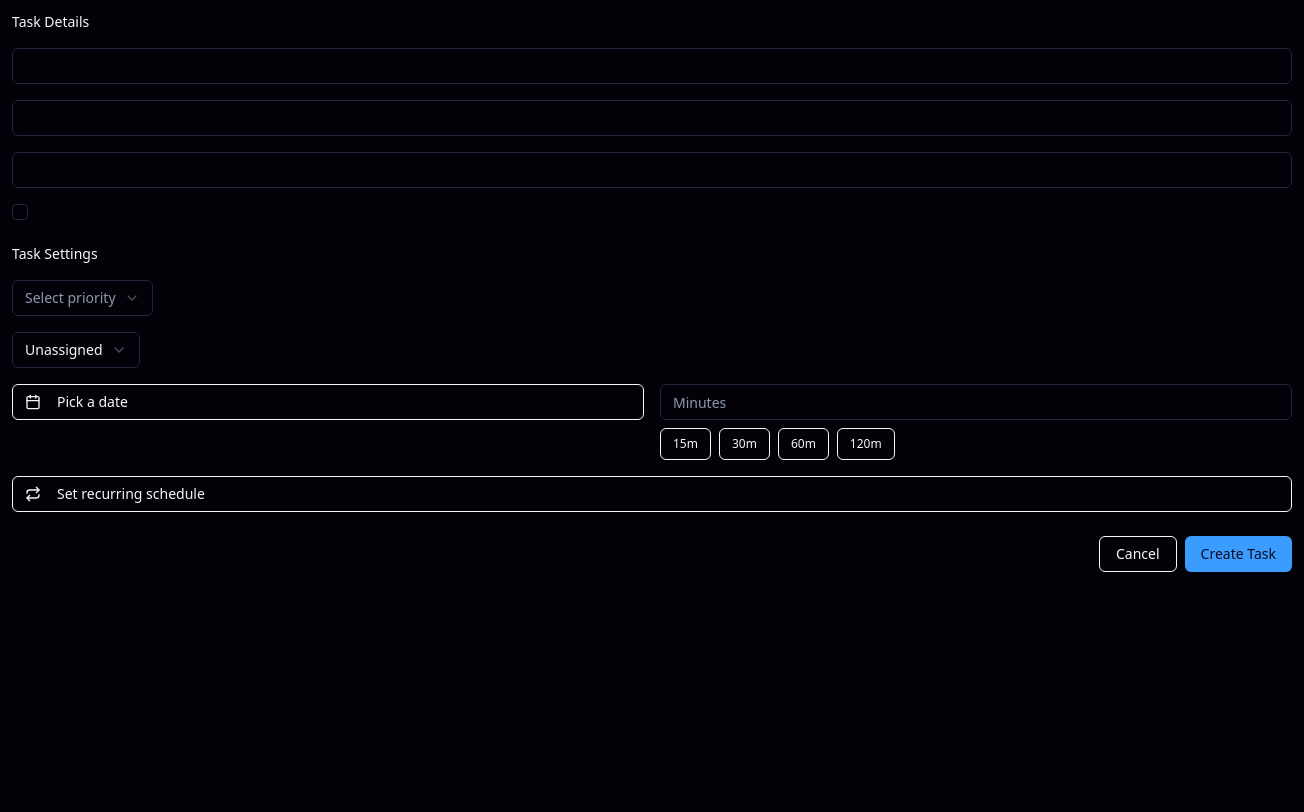
Test: TaskForm › displays validation errors for required fields
This screenshot has width=1304, height=812.
What coordinates should you click on to do the following:
click the button "Create Task"
I would click on:
 (1238, 554)
Its box is [1185,536,1292,572].
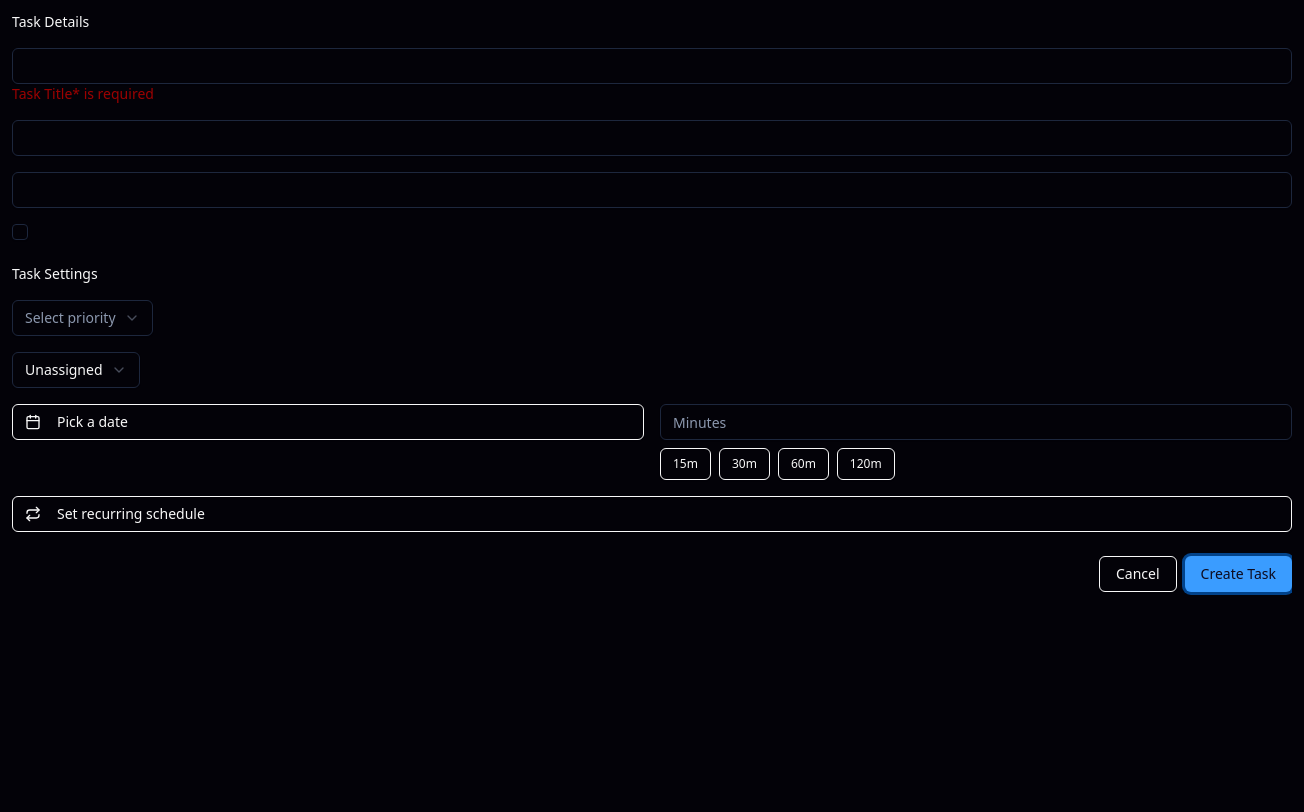
Check: the text "Task Title* is required" is shown, box [12,84,154,103]
